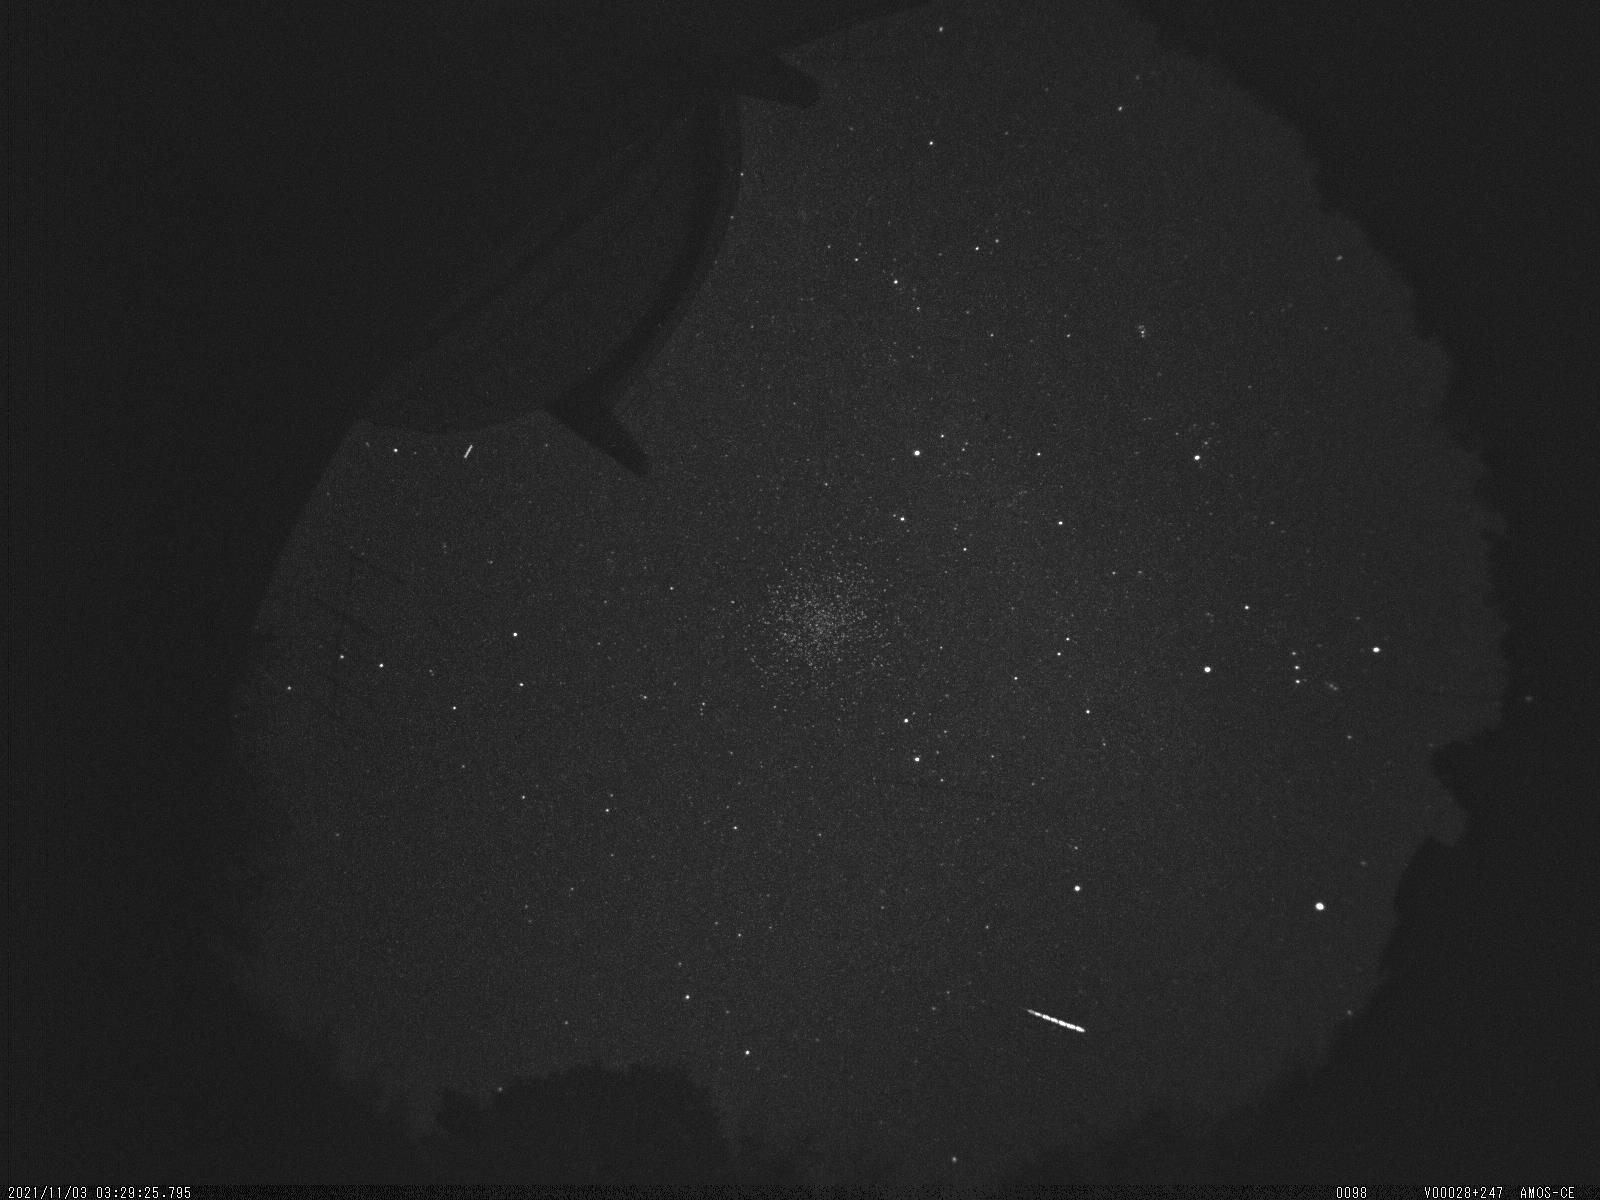Meteor: (1020, 1003, 1099, 1041)
